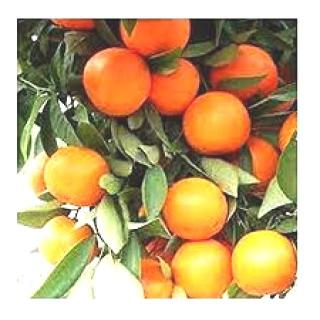orange: (61, 42, 154, 117), (176, 89, 259, 167), (151, 174, 235, 246), (219, 223, 287, 310), (164, 235, 246, 302), (40, 158, 116, 228)
